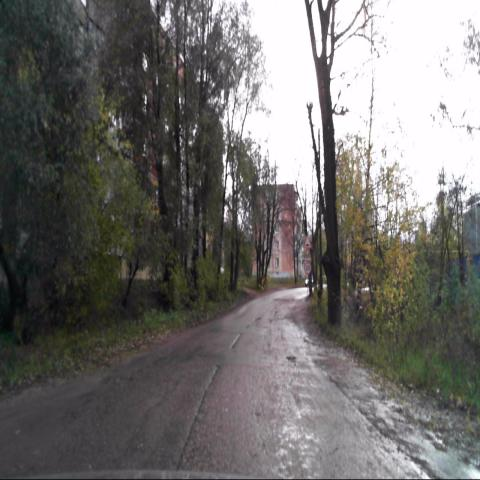1_17: (303, 234, 311, 250)
1_23: (303, 248, 311, 262)
3_24: (304, 261, 312, 274)
